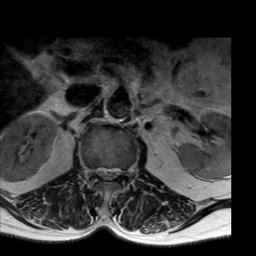CCS_severe_stenosis: (104, 157, 112, 190)
LFS_stenosis: (121, 158, 129, 184)
LLS_normal: (112, 159, 121, 185)
RFS_normal: (88, 158, 95, 183)
RLS_normal: (95, 159, 104, 185)
